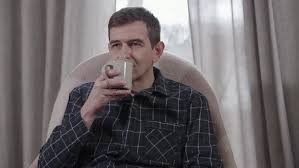white_male: (98, 20, 161, 85)
